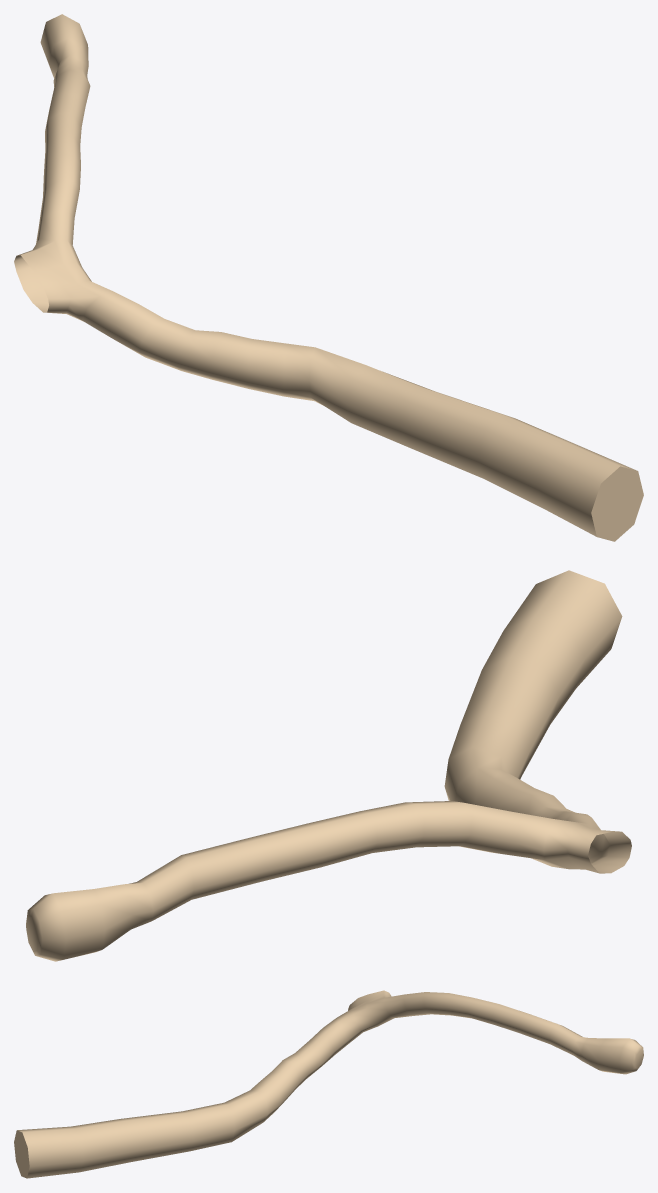
File: L_Optic_Nerve_Reversed01.fbx
The picture shows the model from 3 angles, top to bottom: view 1: azimuth 30°, elevation 25°; view 2: azimuth 150°, elevation 25°; view 3: azimuth 270°, elevation 25°; orthographic projection. The views are drawn at different scales.
Parts seen in each view (by area): view 1: L_Optic_Nerve; view 2: L_Optic_Nerve; view 3: L_Optic_Nerve.
Boxes of the visible parts, bbox=[...] form: L_Optic_Nerve: bbox=[14, 14, 643, 541]; L_Optic_Nerve: bbox=[26, 570, 631, 961]; L_Optic_Nerve: bbox=[14, 990, 643, 1178].
Size of the model in its own units: 2.69 by 1.45 by 6.89.
